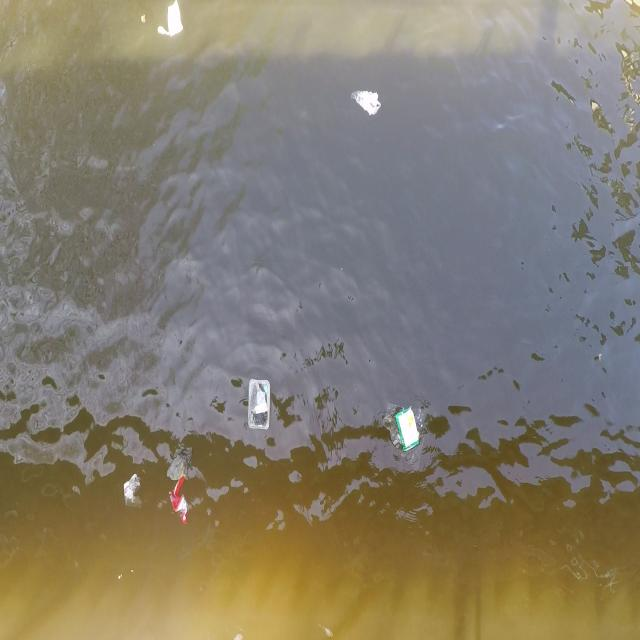Autre plastique: (390, 396, 427, 460), (245, 372, 277, 443)
Sac plastique: (167, 474, 195, 534), (350, 79, 386, 121), (155, 1, 189, 41), (116, 470, 146, 513)
